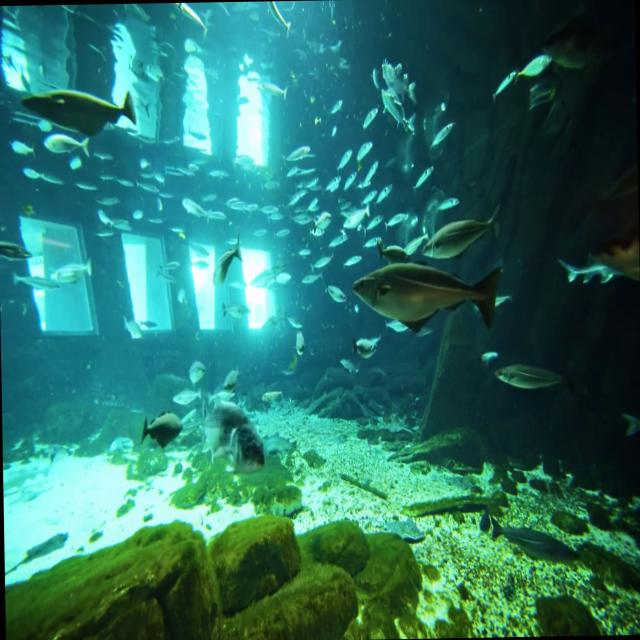fish: (352, 248, 511, 338), (546, 212, 640, 308), (19, 72, 145, 140), (414, 182, 504, 269), (482, 499, 582, 566), (131, 388, 197, 458), (490, 348, 570, 400), (204, 238, 247, 298), (9, 257, 58, 297), (50, 253, 94, 290), (165, 382, 208, 417), (0, 229, 30, 271), (344, 132, 372, 170), (118, 313, 145, 351), (283, 135, 314, 168), (359, 96, 384, 136), (334, 146, 360, 172), (326, 168, 344, 196)
